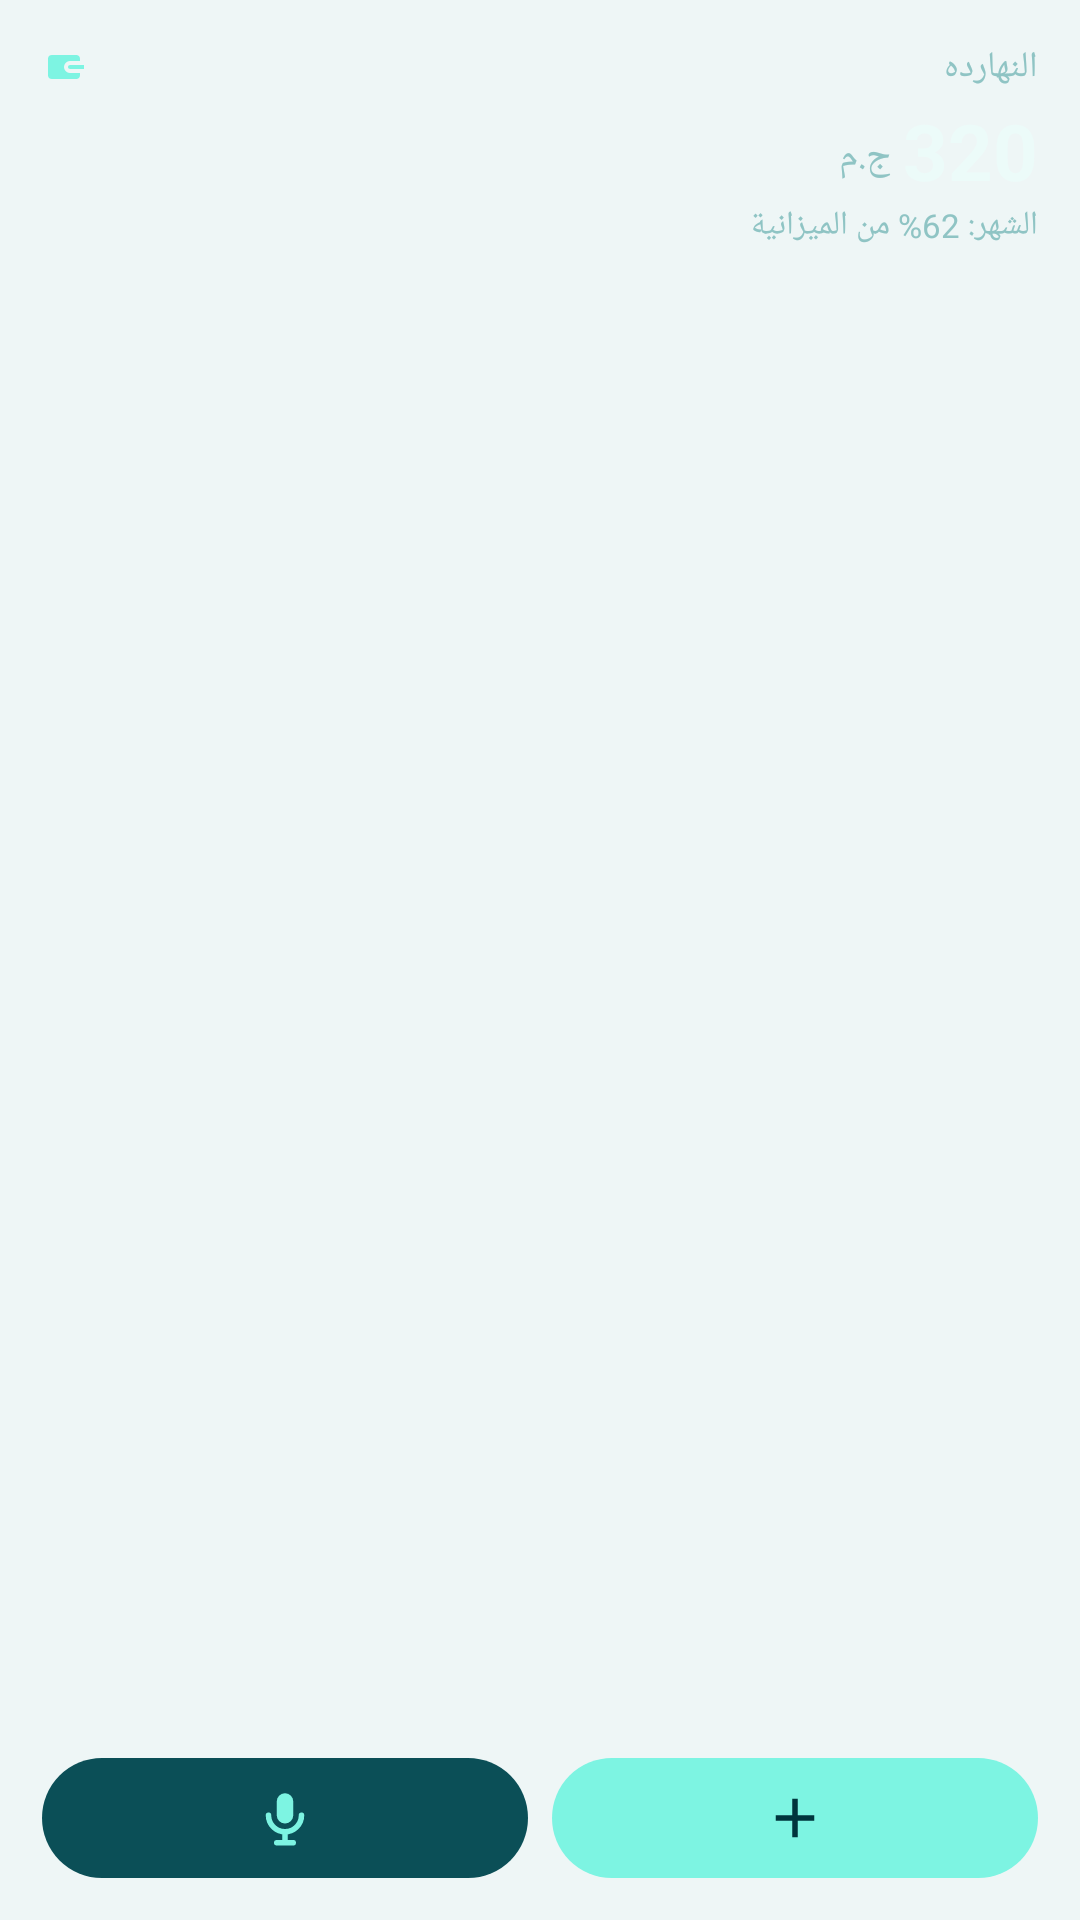

Icon bounding boxes for this 1080px x 1920px phone screenshot, format region(x1, y1, x2, y2):
mic: region(265, 1793, 305, 1846)
plus: region(775, 1798, 815, 1838)
wallet: region(48, 55, 84, 79)
